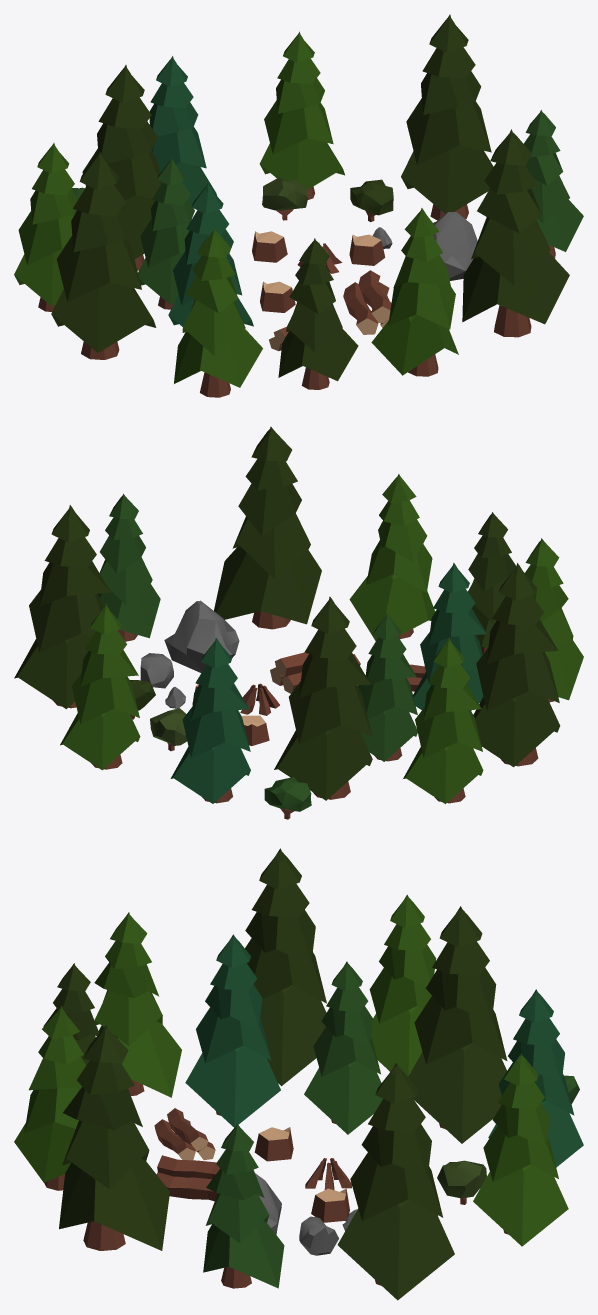
File: SawmillLVL1.fbx
The picture shows the model from 3 angles, top to bottom: view 1: azimuth 30°, elevation 25°; view 2: azimuth 150°, elevation 25°; view 3: azimuth 270°, elevation 25°; orthographic projection. The views are drawn at different scales.
Parts seen in each view (by area): view 1: ель.007, ель.002, ель.012, ель.009, ель.005, ель.011, ель.013, ель.006, ель.001, ель.004, ель.010, ель.008 (+7 smaller); view 2: ель.007, ель.013, ель.002, ель.012, ель.009, ель.010, ель.001, ель.011, ель.004, ель.008, ель.003, ель.005 (+9 smaller); view 3: ель.007, ель.012, ель.013, ель.002, ель.011, ель.003, ель.005, ель.008, ель.004, ель.001, ель.009, ель.010 (+10 smaller).
Boxes of the visible parts, x1,y1,x2,y2 form: ель.007: [462, 129, 569, 337]; ель.002: [51, 151, 156, 359]; ель.012: [401, 14, 493, 220]; ель.009: [371, 208, 458, 376]; ель.005: [174, 228, 262, 397]; ель.011: [259, 31, 344, 199]; ель.013: [82, 65, 161, 270]; ель.006: [278, 238, 358, 389]; ель.001: [14, 143, 77, 311]; ель.004: [138, 158, 194, 309]; ель.010: [149, 56, 216, 205]; ель.008: [524, 110, 583, 258]; ель.007: [214, 426, 321, 629]; ель.013: [274, 596, 372, 800]; ель.002: [473, 563, 560, 767]; ель.012: [14, 505, 110, 709]; ель.009: [349, 474, 435, 640]; ель.010: [170, 638, 250, 803]; ель.001: [403, 638, 483, 803]; ель.011: [60, 604, 140, 770]; ель.004: [357, 613, 417, 761]; ель.008: [97, 493, 160, 641]; ель.003: [413, 562, 486, 710]; ель.005: [525, 538, 583, 702]; ель.007: [59, 1025, 169, 1250]; ель.012: [337, 1063, 454, 1300]; ель.013: [408, 906, 507, 1143]; ель.002: [245, 848, 326, 1086]; ель.011: [473, 1053, 568, 1246]; ель.003: [185, 934, 280, 1127]; ель.005: [94, 912, 181, 1097]; ель.008: [203, 1123, 284, 1288]; ель.004: [304, 961, 382, 1134]; ель.001: [369, 894, 436, 1076]; ель.009: [14, 1006, 86, 1190]; ель.010: [488, 989, 583, 1167].
Bounding box in the file's own units: 764 × 288 × 684.
